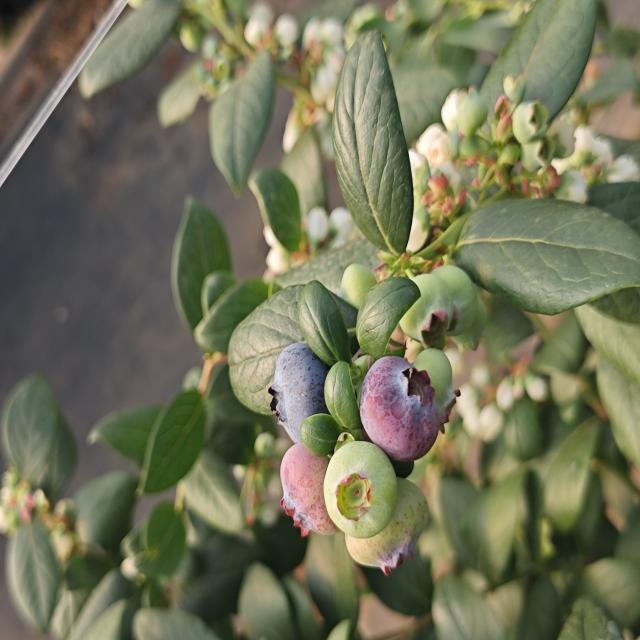ripe: (357, 352, 443, 464), (266, 340, 332, 447)
